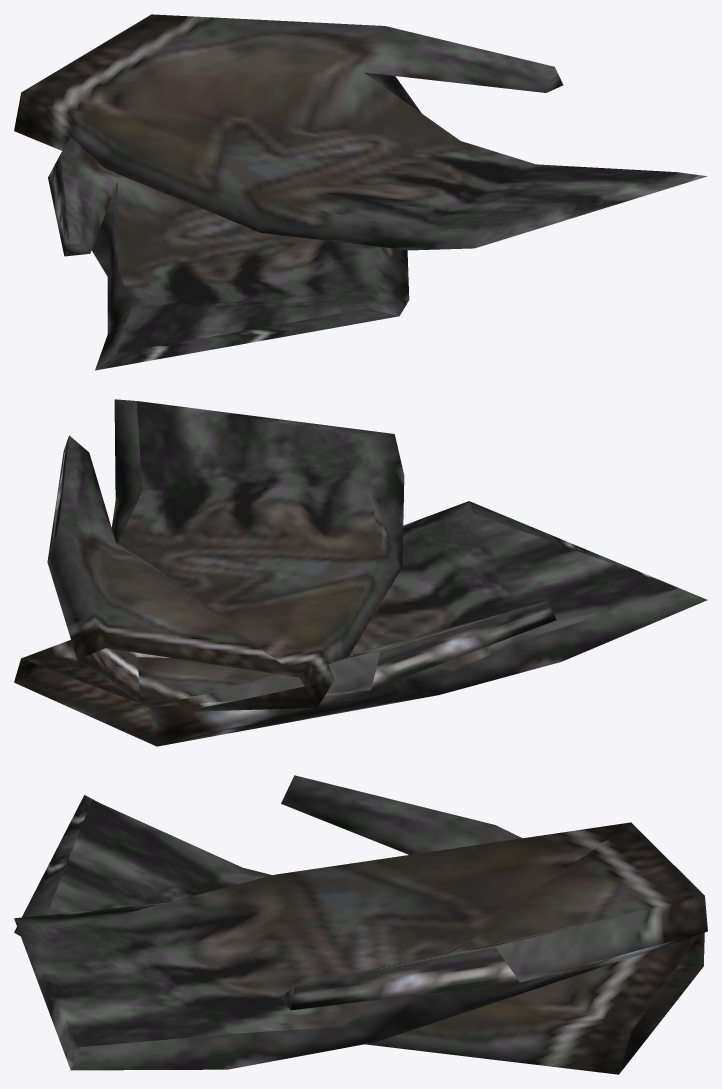
File: m_Hands2.glb
3 renders of one model, top to bottom at view 1: azimuth 30°, elevation 25°; view 2: azimuth 150°, elevation 25°; view 3: azimuth 270°, elevation 25°, orthographic. The views are drawn at different scales.
Parts seen in each view (by area): view 1: Hands2; view 2: Hands2; view 3: Hands2.
Part boxes in pixels (bbox=[...]): Hands2: bbox=[14, 14, 706, 370]; Hands2: bbox=[14, 399, 707, 746]; Hands2: bbox=[14, 775, 707, 1074].
Size of the model in its own units: 10.67 by 2.29 by 9.42.
1 material, 1 textured.
